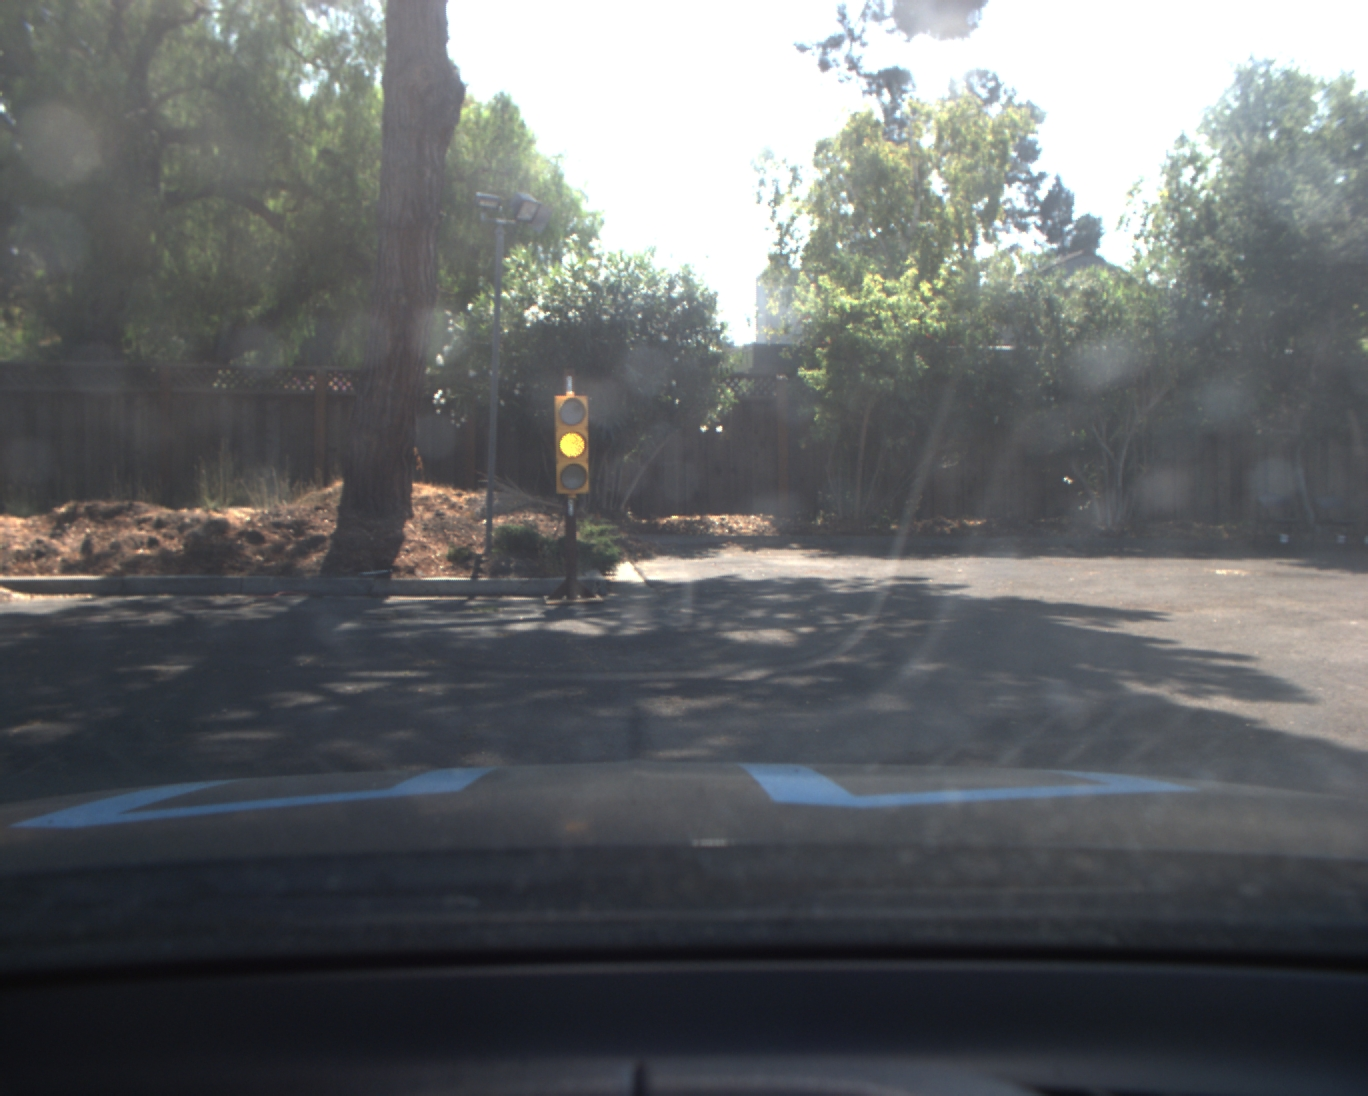yellow: (551, 390, 595, 499)
